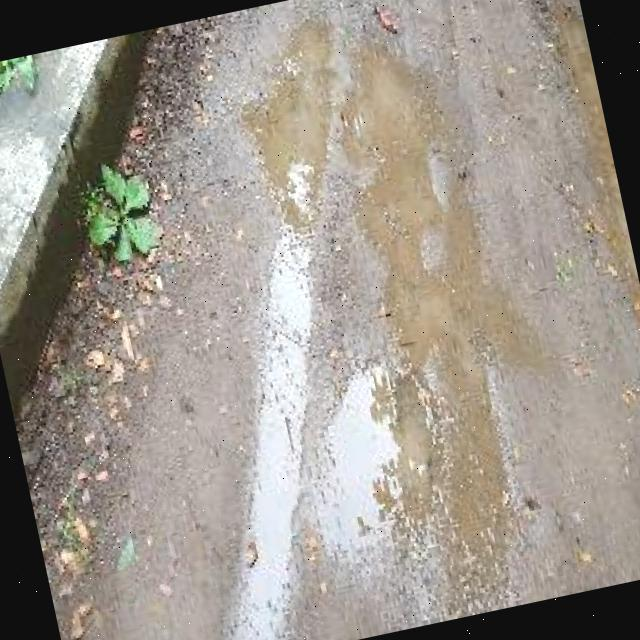waterlogging: (195, 0, 578, 617)
